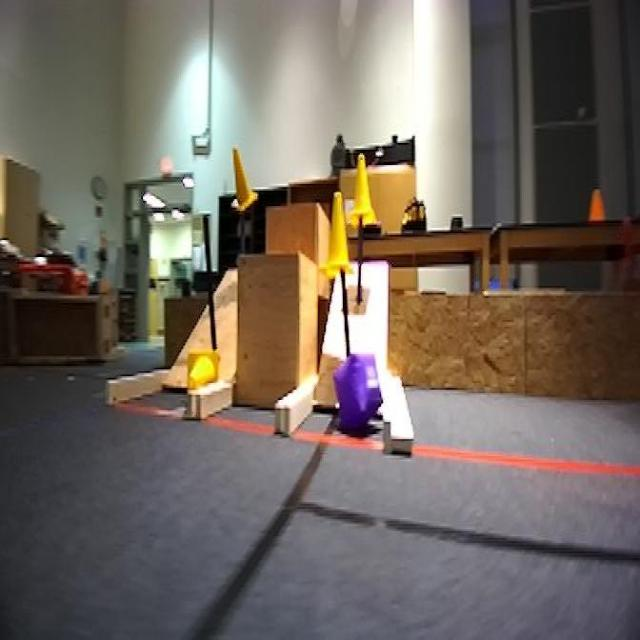frc_cone: (225, 145, 258, 218), (321, 203, 350, 274), (183, 351, 218, 392), (350, 153, 370, 218)
frc_cube: (328, 352, 382, 441)
